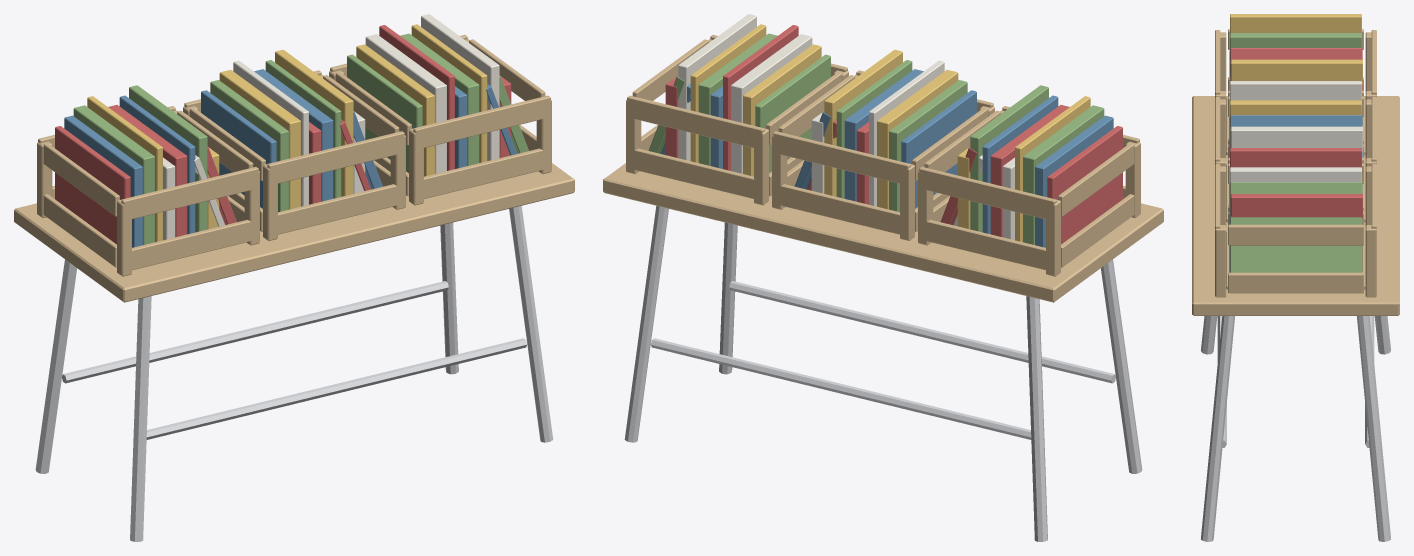
3 views of the same model, side by side, from view 1: azimuth 30°, elevation 25°; view 2: azimuth 150°, elevation 25°; view 3: azimuth 270°, elevation 25° (orthographic). The views are drawn at different scales.
Visible parts, largest first — view 1: second-hand-book-box-set; view 2: second-hand-book-box-set; view 3: second-hand-book-box-set.
Part boxes in pixels (left/top/right/bottom): second-hand-book-box-set: left=14, top=14, right=574, bottom=541; second-hand-book-box-set: left=603, top=14, right=1163, bottom=541; second-hand-book-box-set: left=1192, top=14, right=1399, bottom=541.
Size of the model in its own units: 1.3 by 1.03 by 0.5499.
